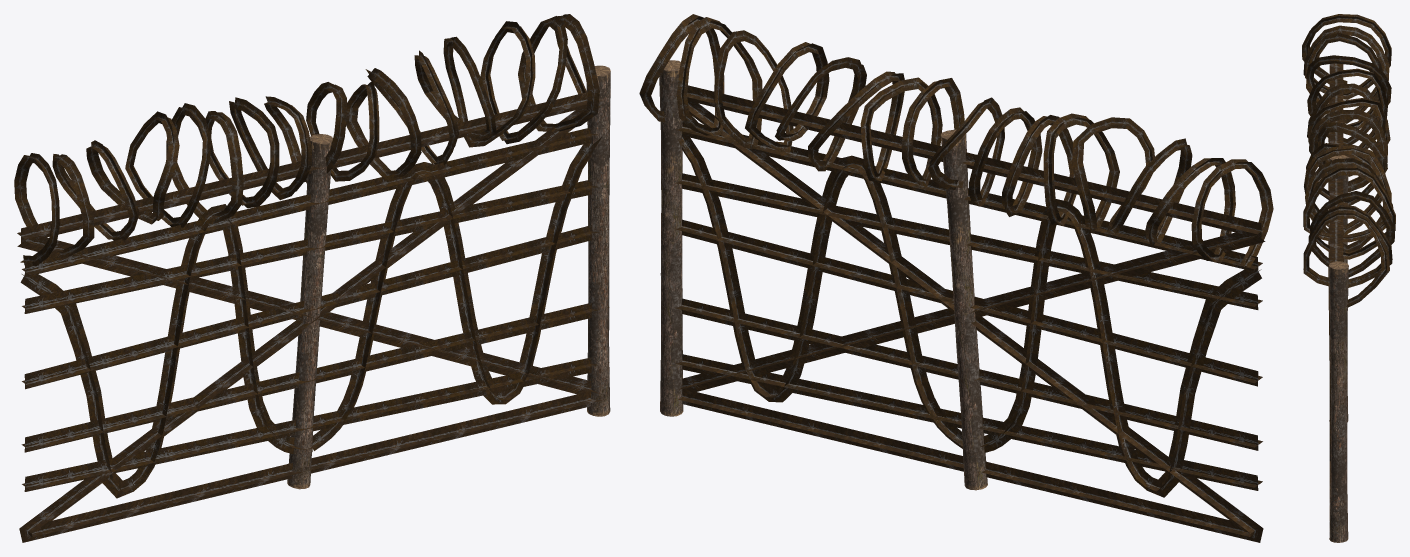
Rendered from Fence_wood_02.FBX.
The picture shows the model from 3 angles, left to right: view 1: azimuth 30°, elevation 25°; view 2: azimuth 150°, elevation 25°; view 3: azimuth 270°, elevation 25°; orthographic projection. The views are drawn at different scales.
Parts seen in each view (by area): view 1: Fence_wood_wire_02, Fence_wood_02; view 2: Fence_wood_wire_02, Fence_wood_02; view 3: Fence_wood_wire_02, Fence_wood_02.
Boxes of the visible parts, <box> form: Fence_wood_wire_02: <box>14,14,609,542</box>; Fence_wood_02: <box>287,65,610,489</box>; Fence_wood_wire_02: <box>639,14,1273,542</box>; Fence_wood_02: <box>659,60,987,490</box>; Fence_wood_wire_02: <box>1302,14,1395,527</box>; Fence_wood_02: <box>1329,155,1348,542</box>.
Size of the model in its own units: 493 by 317 by 84.1.
